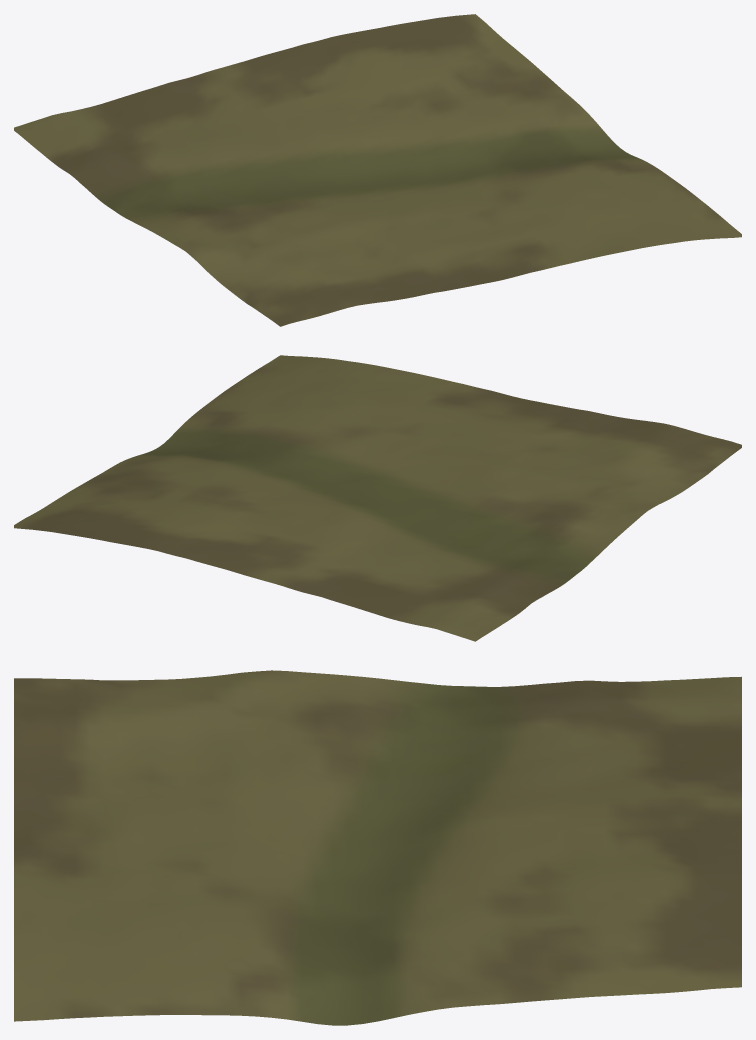
File: land_m_05_04.glb
3 renders of one model, top to bottom at view 1: azimuth 30°, elevation 25°; view 2: azimuth 150°, elevation 25°; view 3: azimuth 270°, elevation 25°, orthographic. The views are drawn at different scales.
Visible parts, largest first — view 1: land_m_05_04; view 2: land_m_05_04; view 3: land_m_05_04.
Part boxes in pixels (x1=…): land_m_05_04: x1=14, y1=14, x2=741, y2=326; land_m_05_04: x1=14, y1=355, x2=741, y2=641; land_m_05_04: x1=14, y1=670, x2=741, y2=1025.
Bounding box in the file's own units: 960 × 85.74 × 960.
